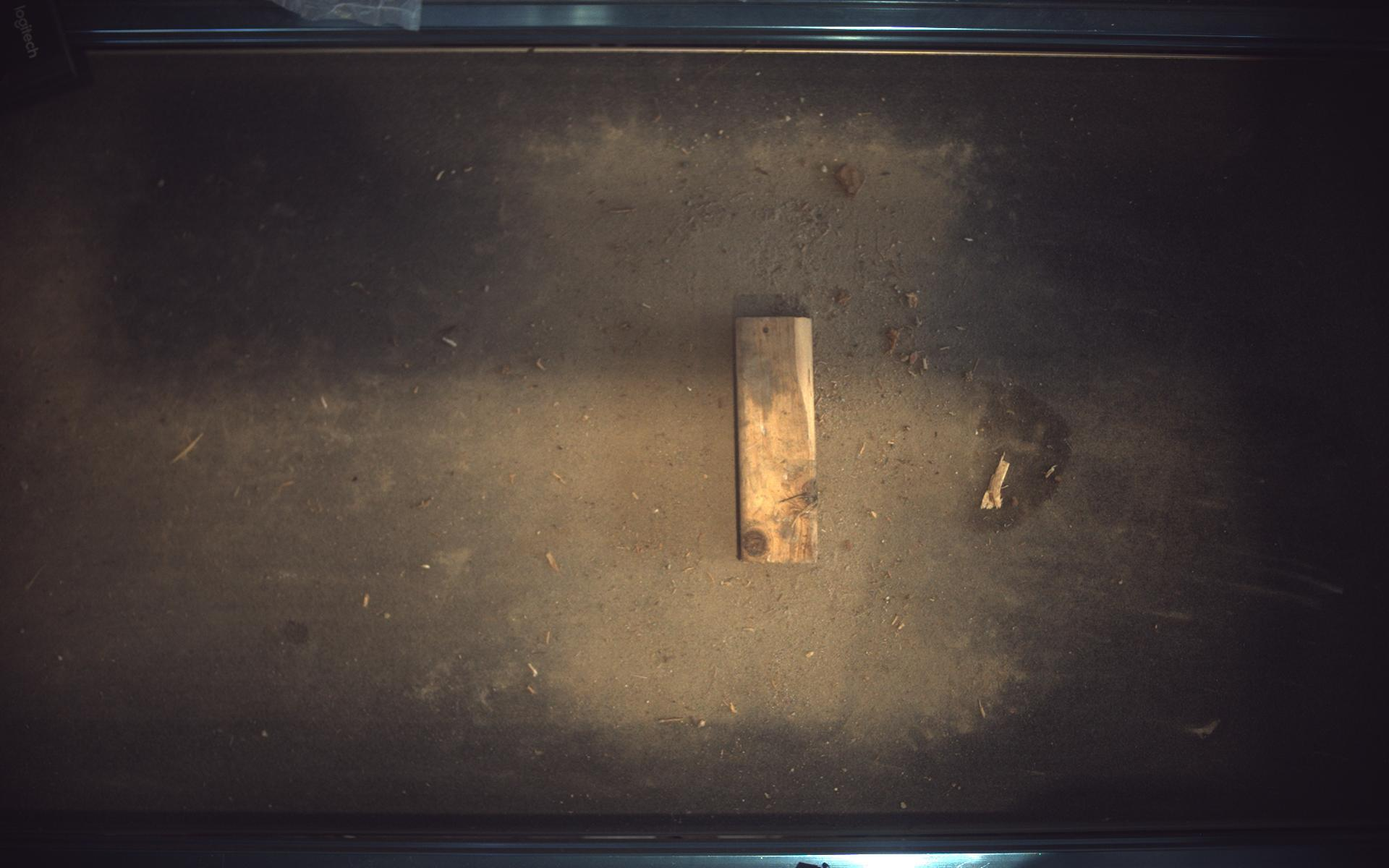wood: (736, 317, 820, 563)
